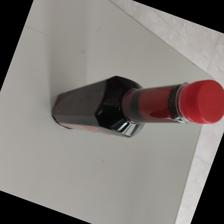Namngu: (51, 75, 224, 139)
